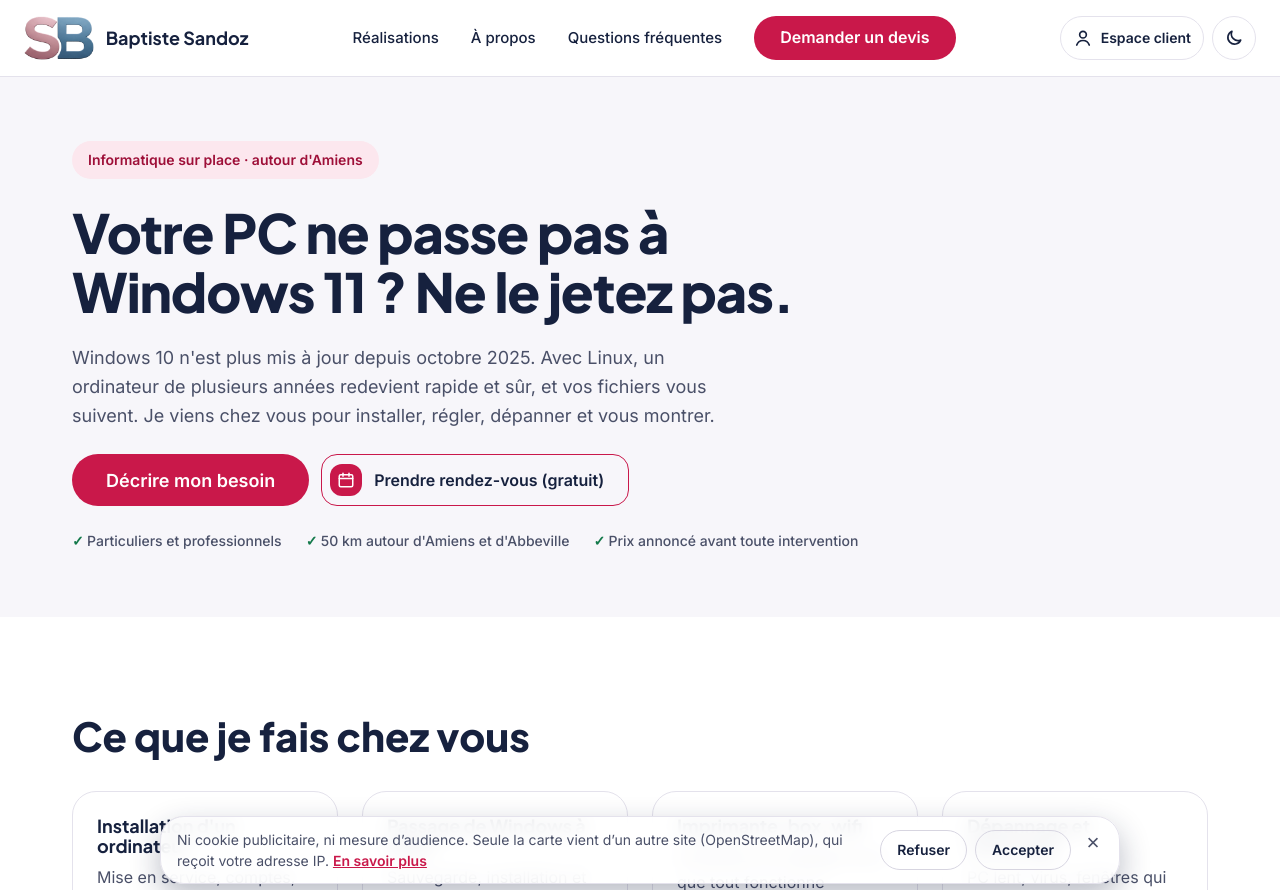
Page Informatique sur place › « Décrire mon besoin » mène à la demande de devis
This screenshot has width=1280, height=890.
Click the link "Décrire mon besoin". click: x=191, y=480
box: [72,454,309,506]
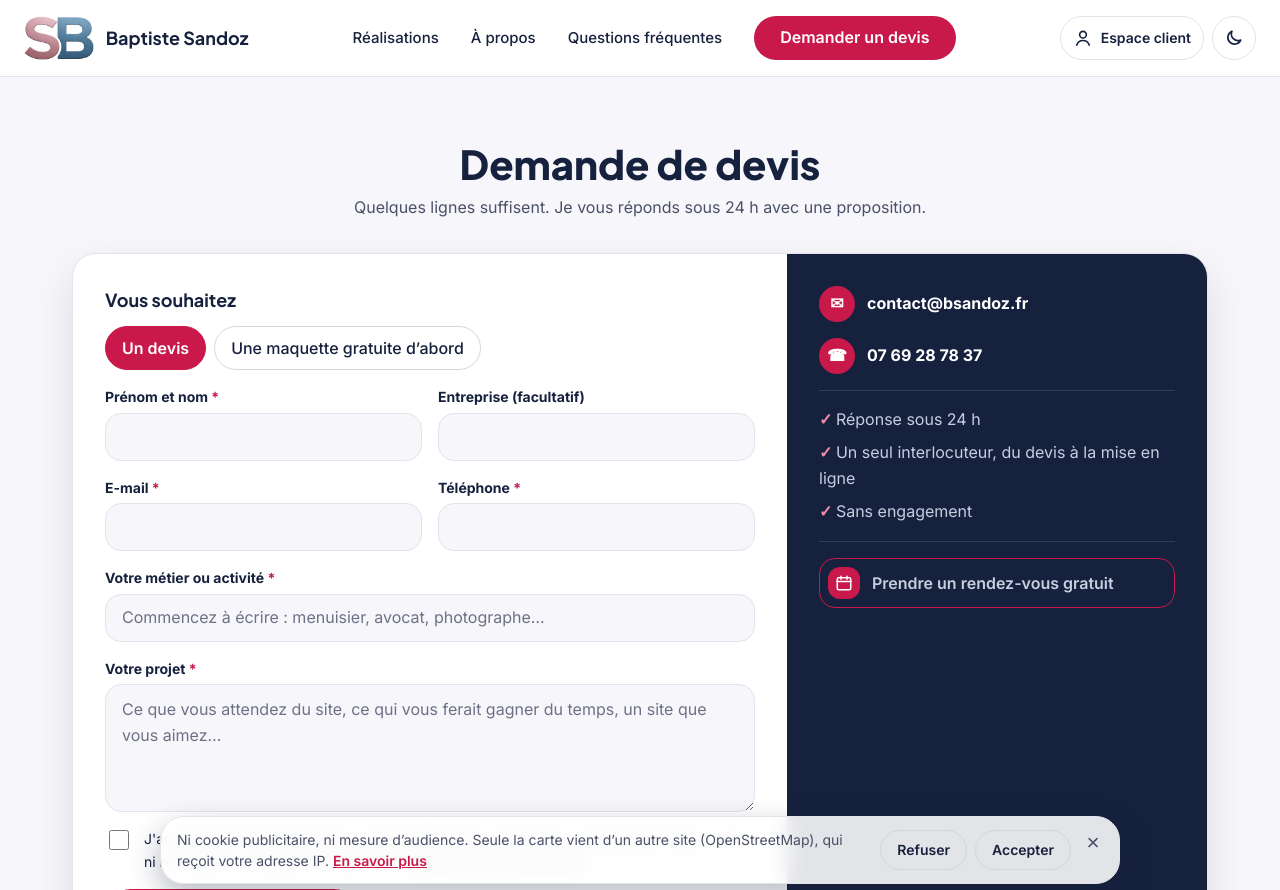
Result: the heading "Demande de devis" is shown at [460,141,820,187]
